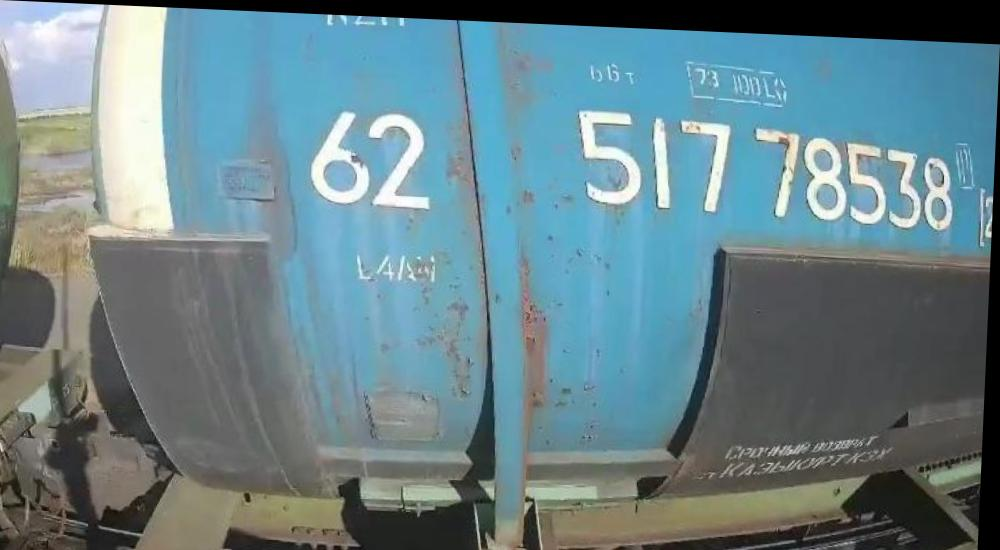Wagon-number: (573, 98, 962, 231)
